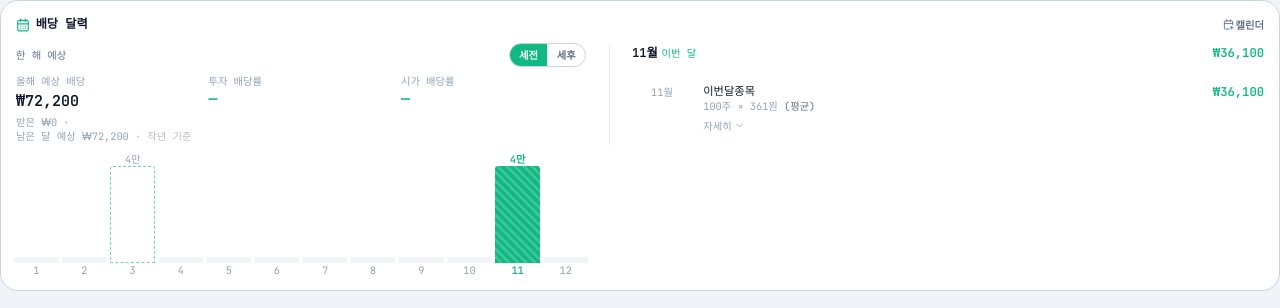
Scenario: 배당 — 넓은 화면(lg)에서는 왼쪽 한 해 | 오른쪽 고른 달 › 월별 막대는 왼쪽, 고른 달 내역은 오른쪽 — 막대를 누르면 오른쪽만 바뀐다
expect the text "이번달종목" is shown: met, box top-left (703, 84), bottom-right (755, 99)
expect the text "올해 예상 배당" is shown: met, box top-left (16, 74), bottom-right (85, 88)
Click the button named "3월 ": click(133, 215) top-left (110, 154), bottom-right (155, 275)
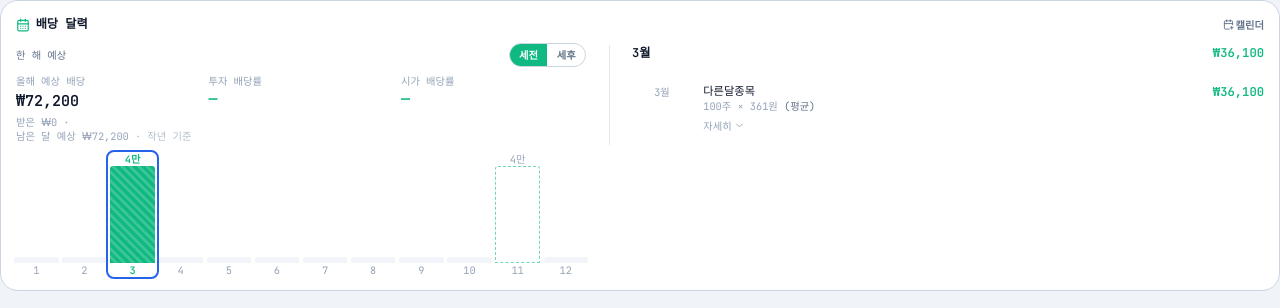
expect the text "다른달종목" is shown: met, box top-left (703, 84), bottom-right (755, 99)
expect the text "이번달종목" is gone: met
